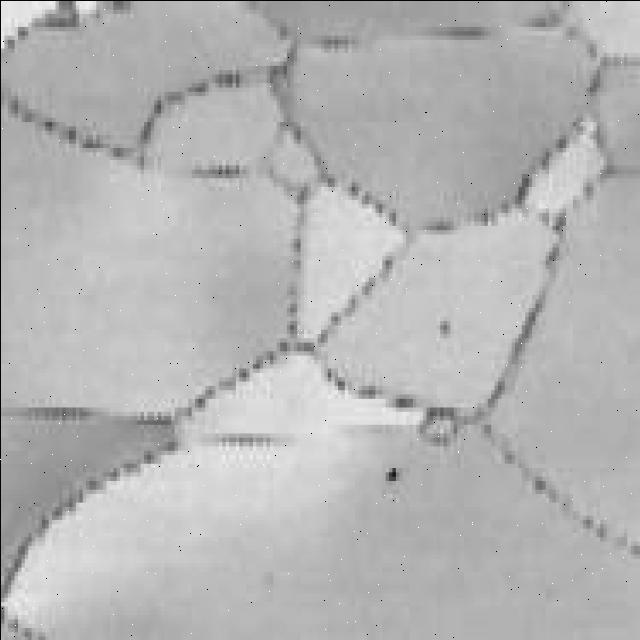good_void: (438, 321, 454, 346), (385, 464, 399, 485)
